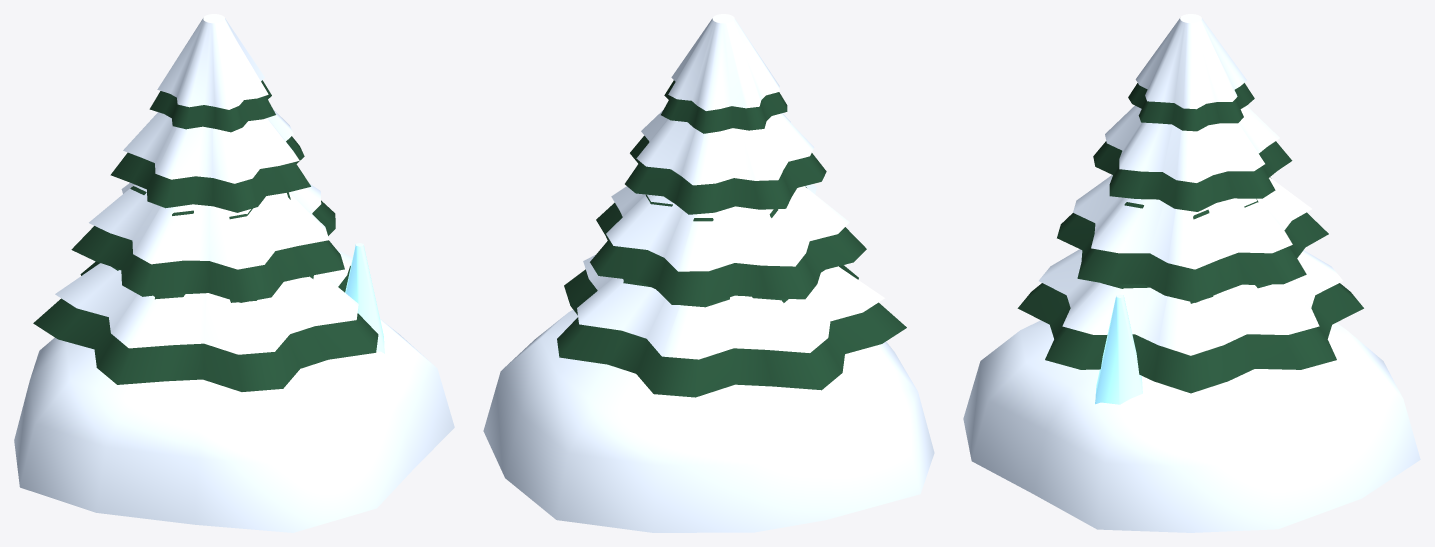
Rendered from prop_snow_pine.glb.
3 views of the same model, side by side, from view 1: azimuth 30°, elevation 25°; view 2: azimuth 150°, elevation 25°; view 3: azimuth 270°, elevation 25° (orthographic). The views are drawn at different scales.
Parts seen in each view (by area): view 1: PropSnowPine; view 2: PropSnowPine; view 3: PropSnowPine.
Part boxes in pixels (left/top/right/bottom): PropSnowPine: left=14, top=14, right=454, bottom=532; PropSnowPine: left=483, top=14, right=934, bottom=532; PropSnowPine: left=963, top=14, right=1420, bottom=532.
Size of the model in its own units: 0.8271 by 0.844 by 0.8379.
